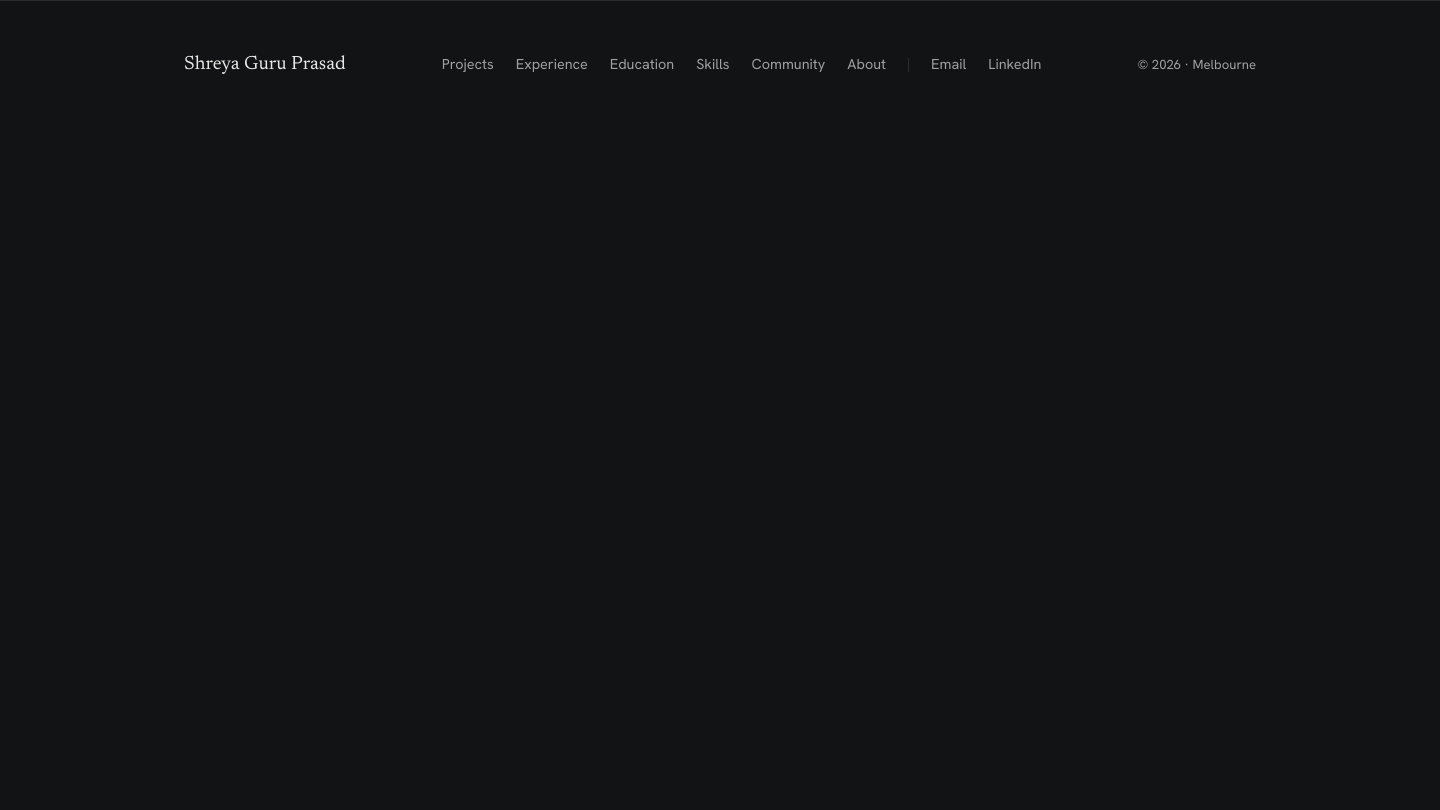
Footer › copies the email
The width and height of the screenshot is (1440, 810).
Click the button "Email" at (949,65), box [931,53,966,77]
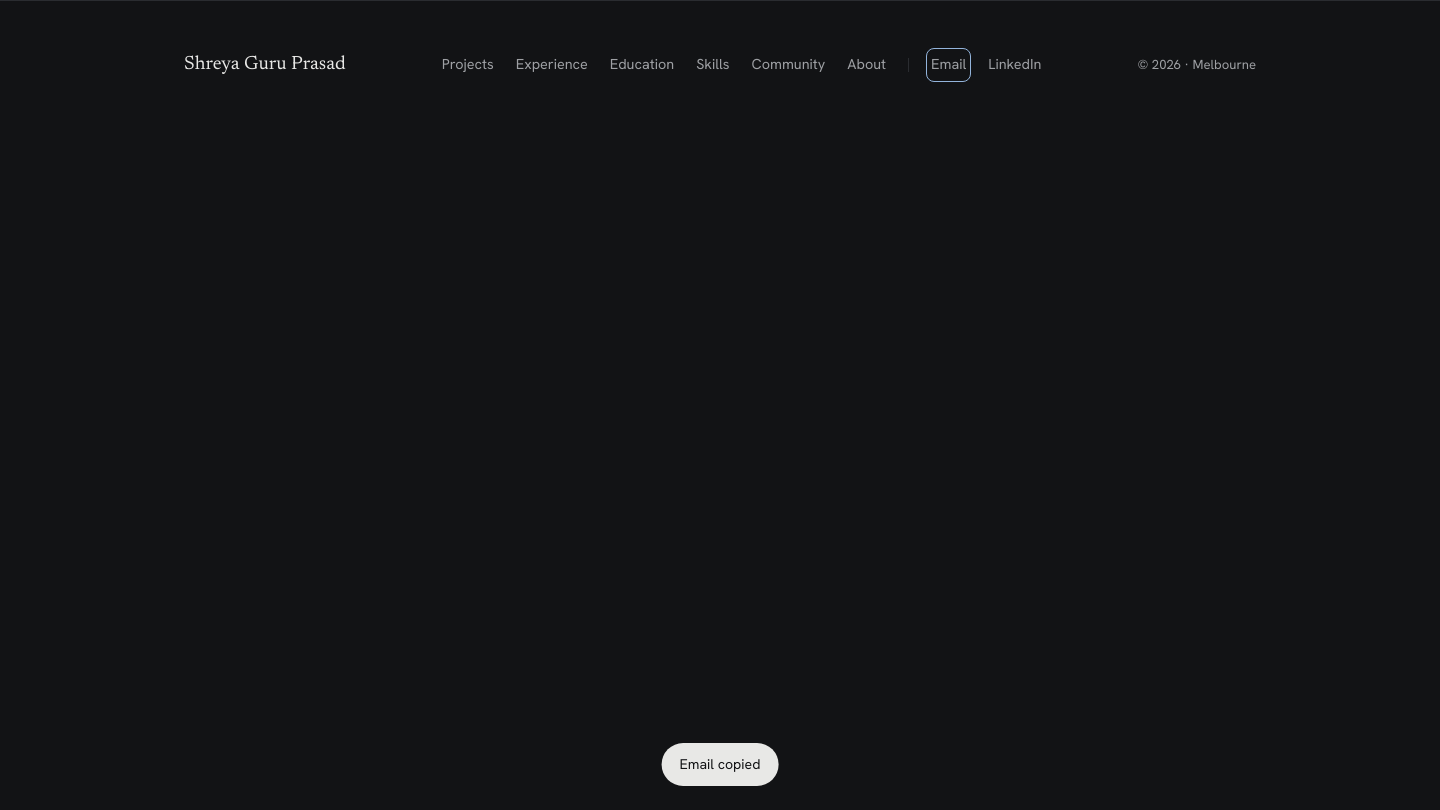
Expected: the message reads "Email copied", [680,755,760,773]
